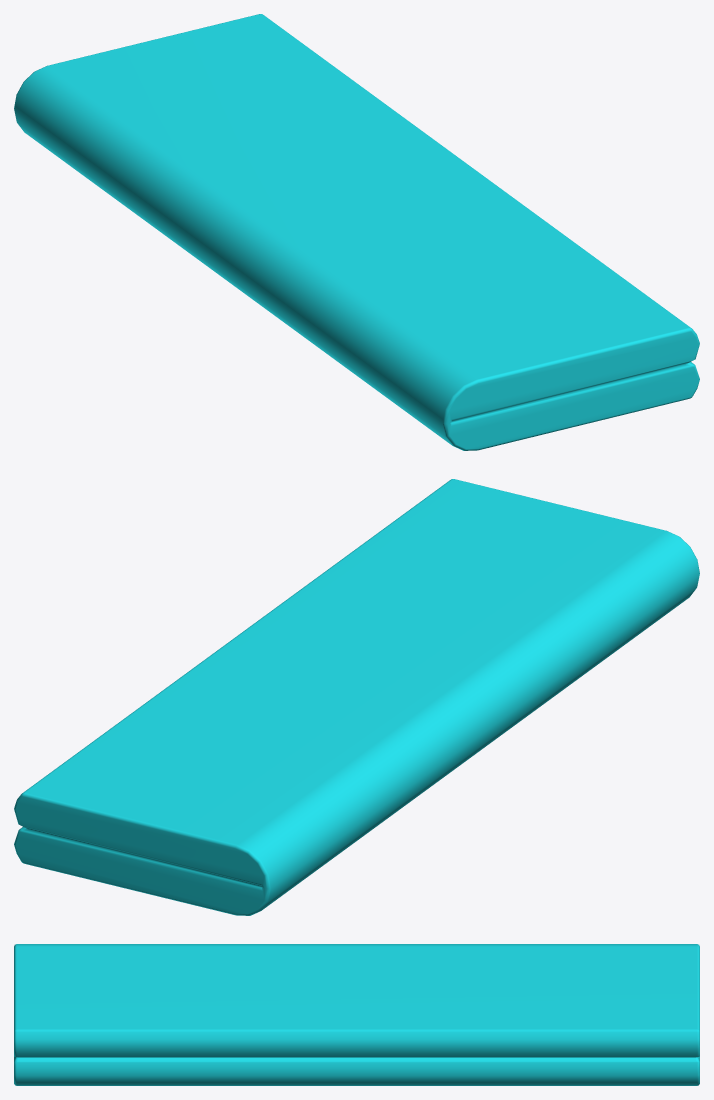
The model's file is Public_19_Fabric_4.glb.
The picture shows the model from 3 angles, top to bottom: view 1: azimuth 30°, elevation 25°; view 2: azimuth 150°, elevation 25°; view 3: azimuth 270°, elevation 25°; orthographic projection. The views are drawn at different scales.
Parts seen in each view (by area): view 1: Public_19_Fabric_4; view 2: Public_19_Fabric_4; view 3: Public_19_Fabric_4.
Boxes of the visible parts, x1=… form: Public_19_Fabric_4: x1=14, y1=14, x2=699, y2=450; Public_19_Fabric_4: x1=14, y1=479, x2=699, y2=915; Public_19_Fabric_4: x1=14, y1=944, x2=699, y2=1085.
Size of the model in its own units: 0.9385 by 0.2481 by 2.73.
1 material, 1 textured.
